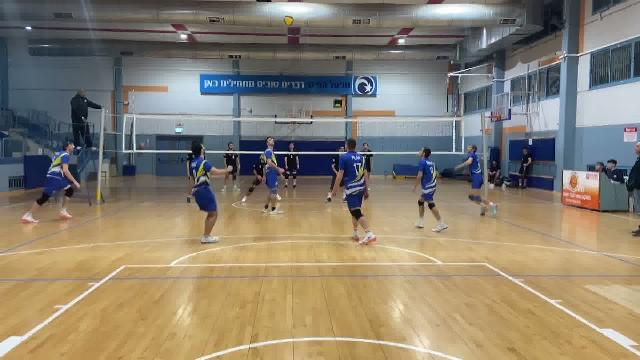ball: (282, 14, 296, 28)
